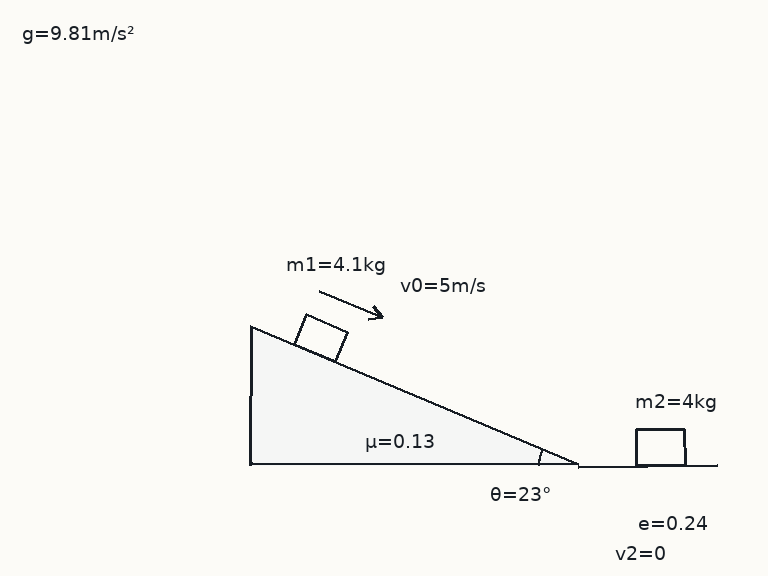block: (292, 312, 350, 363), (634, 427, 686, 467)
ramp: (249, 324, 581, 467)
